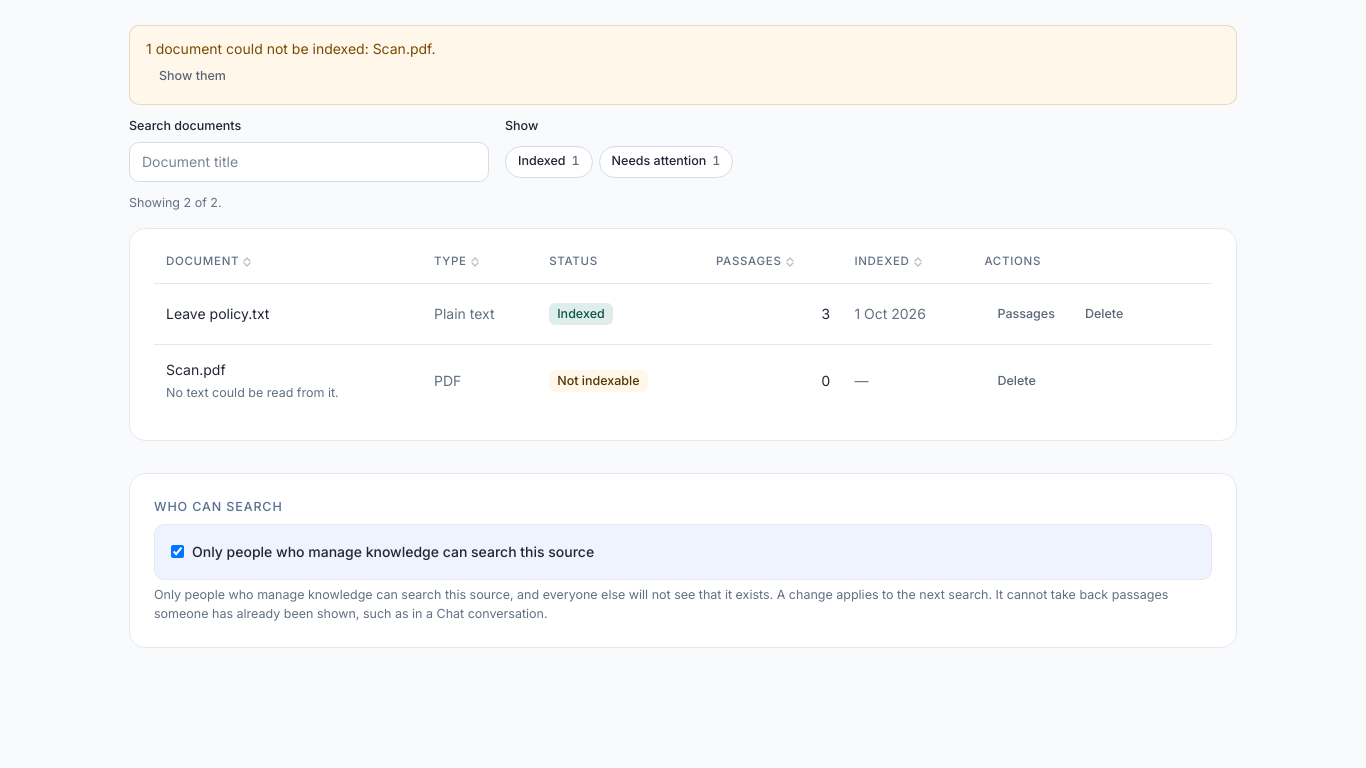
who can search a source › opens a restricted source to the workspace again when the box is cleared
(page scrolled)
expect the text "Leave policy.txt" is shown: met, box [166, 305, 269, 322]
Click the checkbox labelled "Only people who manage knowledge can search this source".
click(178, 552)  # box [171, 545, 184, 558]
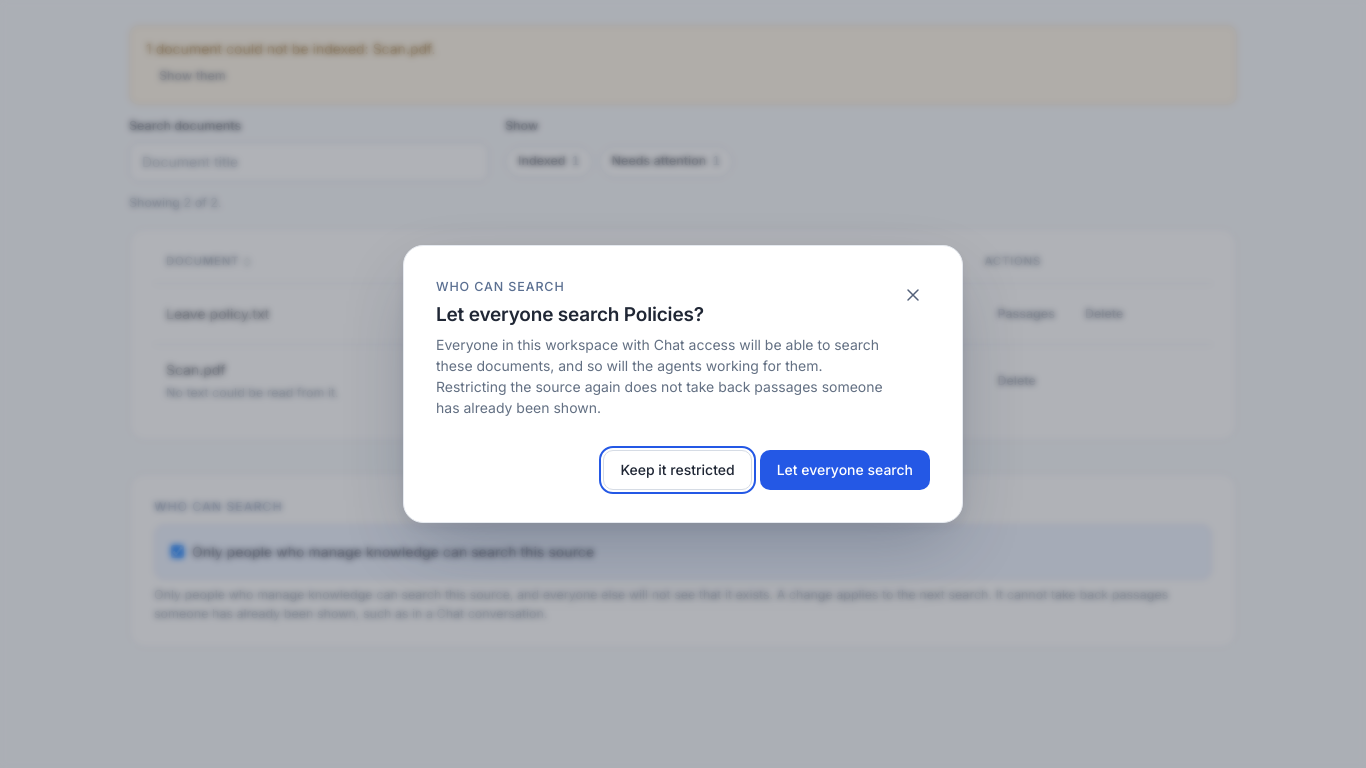
Click the button "Let everyone search".
click(845, 470)  # box [760, 450, 930, 490]
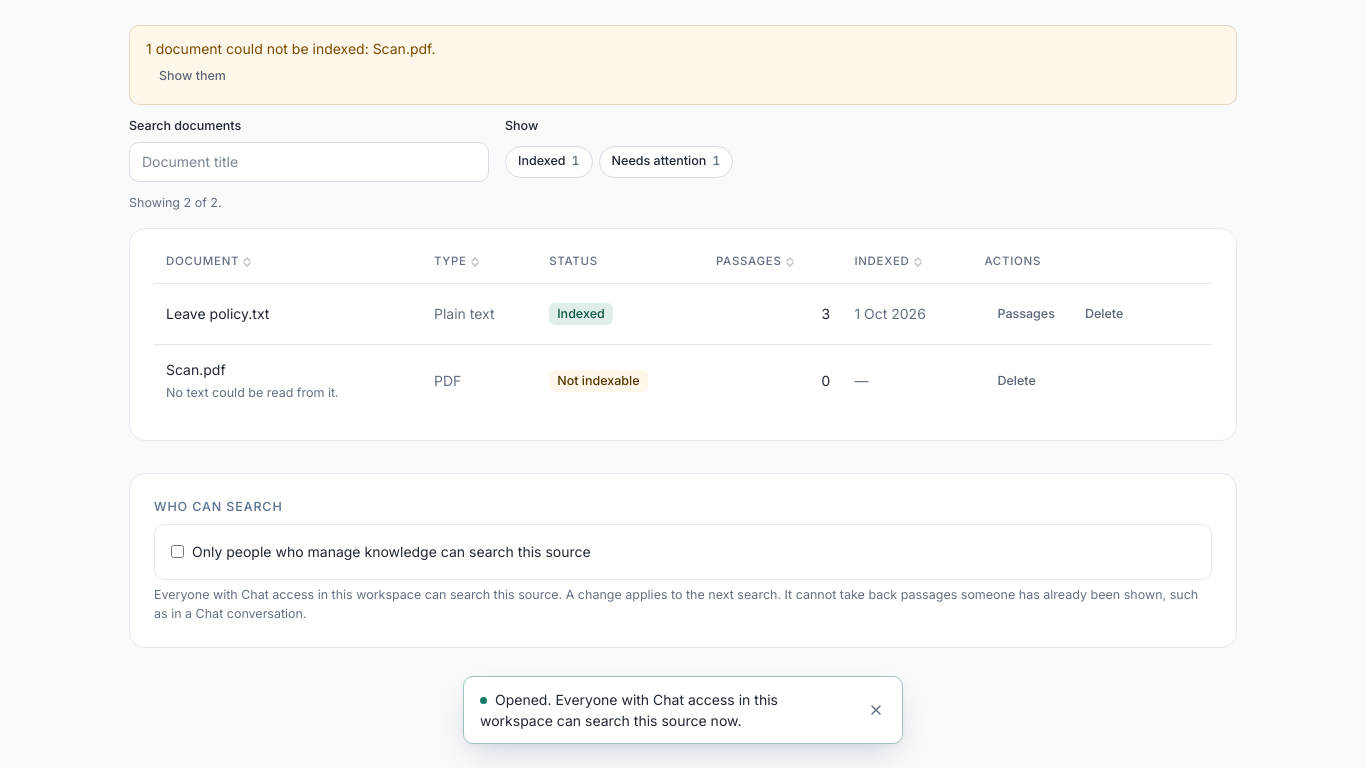
expect the text "Opened. Everyone with Chat access in this workspace can search this source now." is shown: met, box [480, 691, 778, 729]
